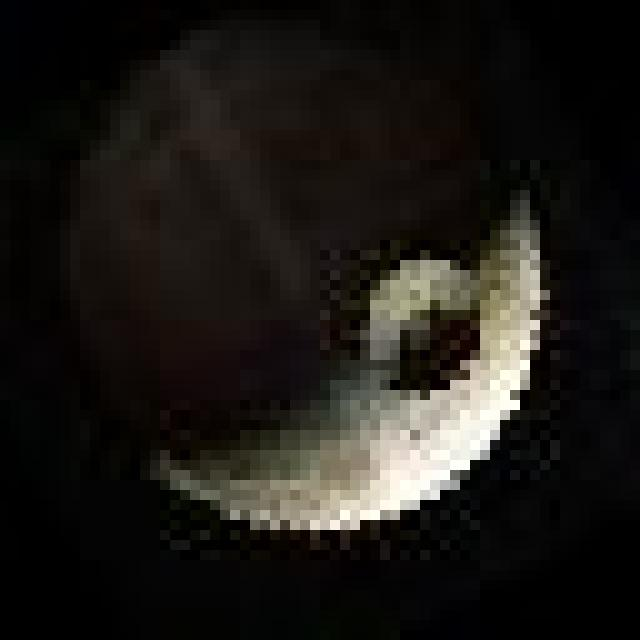Death Star: (84, 8, 541, 526)
